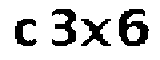3: (50, 6, 79, 49)
6: (119, 4, 150, 49)
c: (12, 18, 39, 50)
x: (80, 16, 111, 49)
